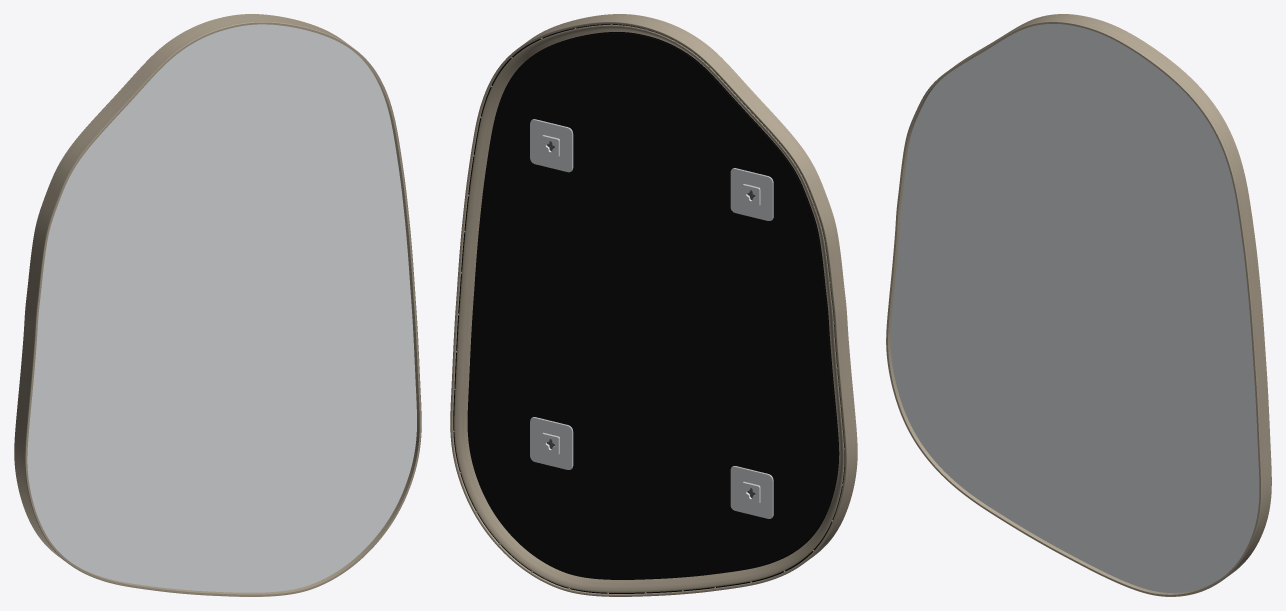
Rendered from brook-gold-medium.glb.
3 views of the same model, side by side, from view 1: azimuth 30°, elevation 25°; view 2: azimuth 150°, elevation 25°; view 3: azimuth 330°, elevation 25° (orthographic). The views are drawn at different scales.
Parts seen in each view (by area): view 1: BrookMirror; view 2: BrookMirror; view 3: BrookMirror.
Part boxes in pixels (x1,y1,x2,y2): BrookMirror: (14,14,421,596); BrookMirror: (450,14,857,596); BrookMirror: (886,14,1271,596).
Size of the model in its own units: 0.5179 by 0.7281 by 0.025.
Materials: 6 (1 with a texture image).
